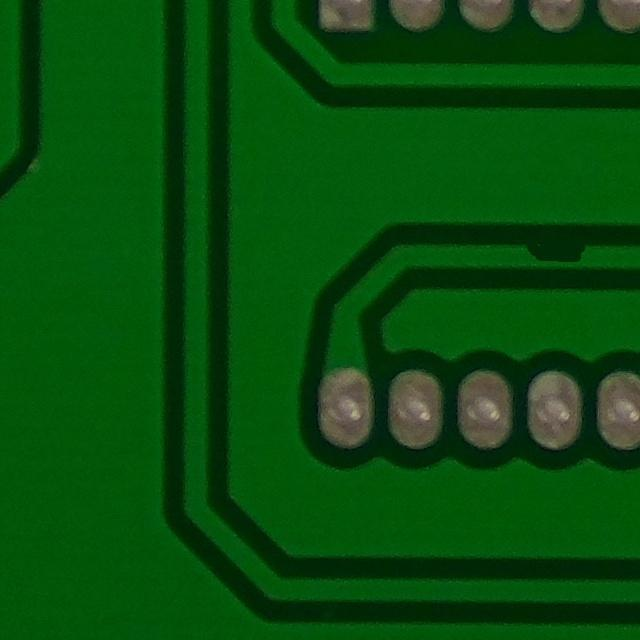mouse_bite: (506, 228, 602, 287)
